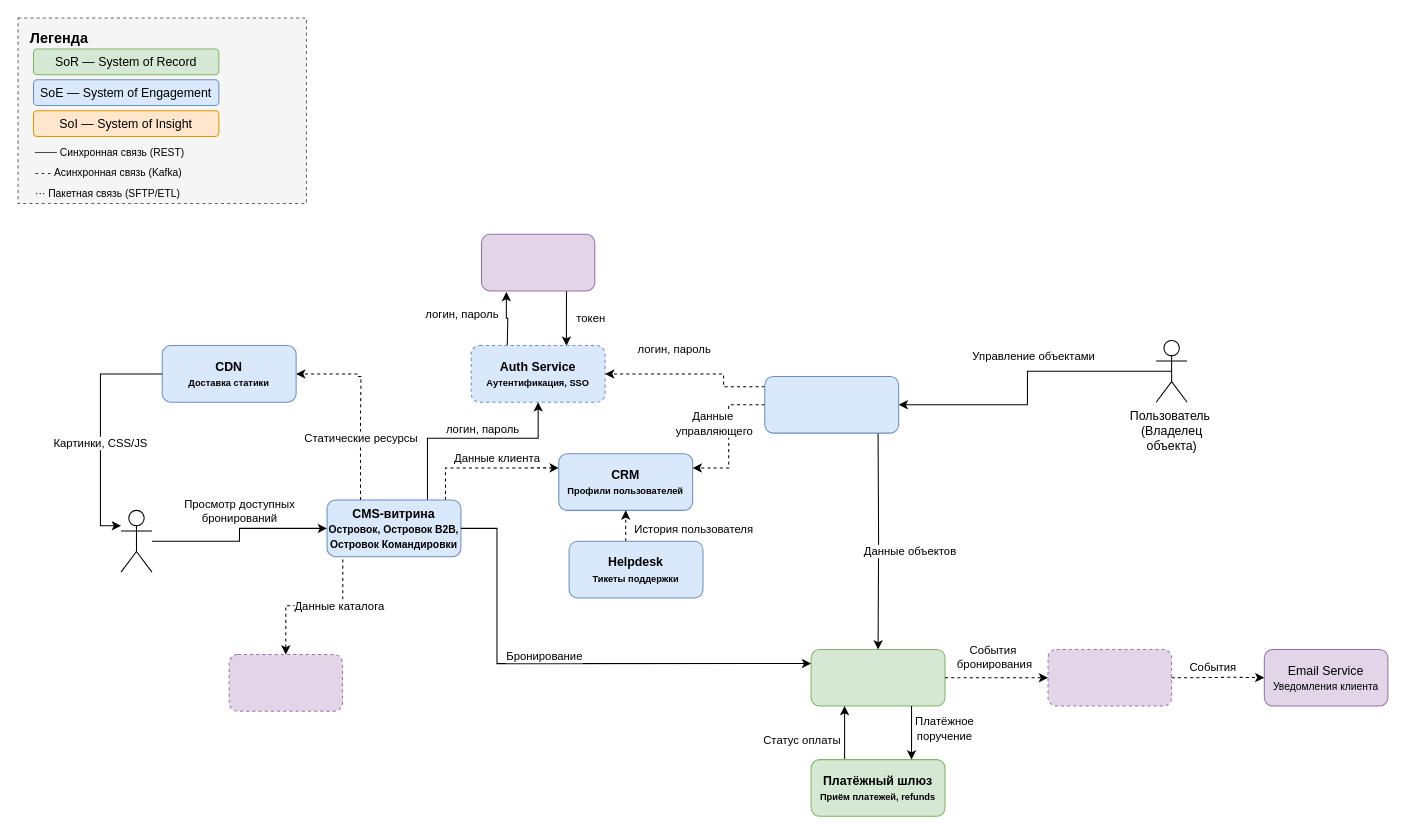
Some shapes in this 1406 by 834 pixel diagram are drawn without their labels. Here are the shapes that lost their labels. From the top down, the centre of each, then its label:
(x=537, y=262): SSO Provider Одноклассники
(x=831, y=404): PMS Островок Экстранет
(x=136, y=540): Пользователь (Клиент)
(x=285, y=682): Кэш (Redis) Популярные направления
(x=877, y=677): CRS Объекты, бронирования
(x=1109, y=677): Message Broker События, очереди
